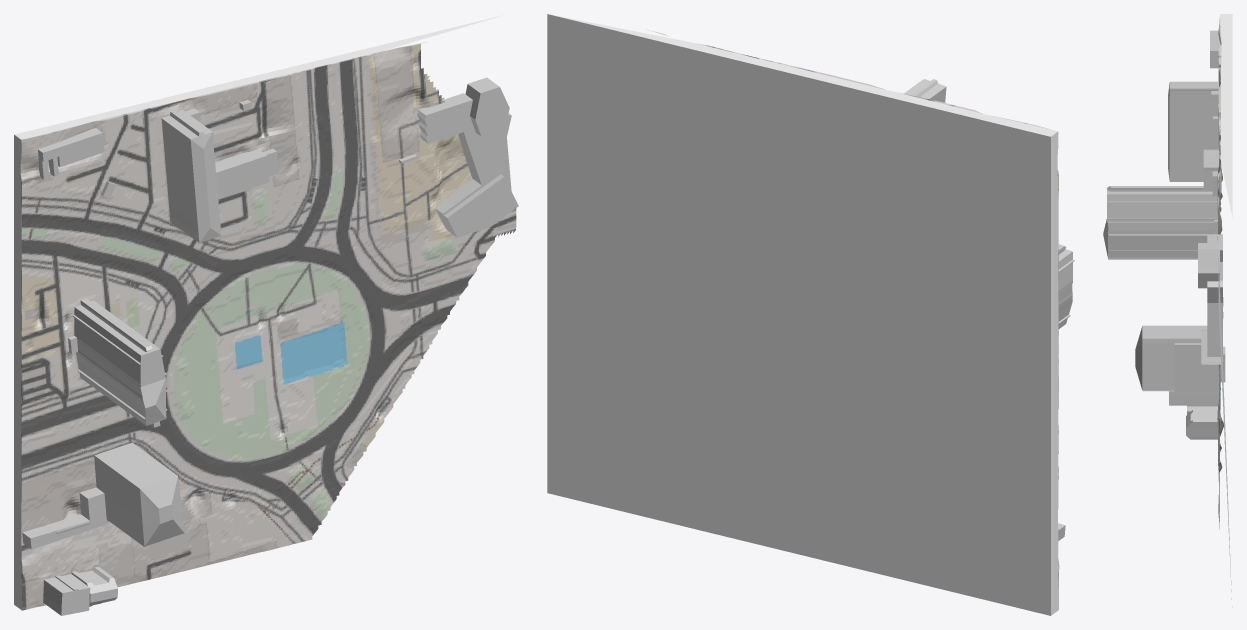
3 views of the same model, side by side, from view 1: azimuth 30°, elevation 25°; view 2: azimuth 150°, elevation 25°; view 3: azimuth 270°, elevation 25° (orthographic). The views are drawn at different scales.
Parts seen in each view (by area): view 1: terrain, buildings; view 2: terrain, buildings; view 3: buildings, terrain.
Part boxes in pixels (x1,y1,x2,y2): terrain: (14,14,516,610); buildings: (22,77,518,615); terrain: (547,14,1059,615); buildings: (903,79,1074,540); buildings: (1103,30,1225,439); terrain: (1217,14,1232,607).
Bounding box in the file's own units: 330 × 300 × 88.31.
Materials: 3 (1 with a texture image).
